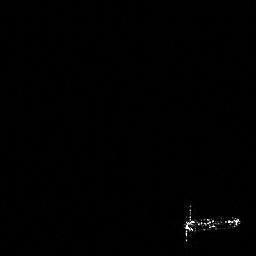ship: (181, 214, 244, 242)
